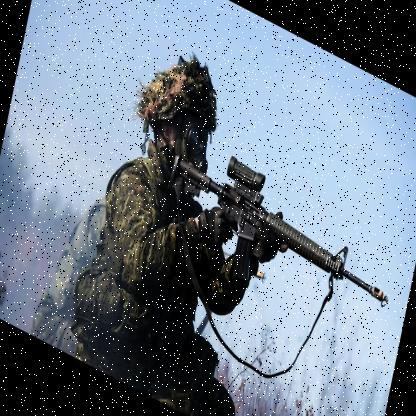rifle: (154, 134, 398, 354)
